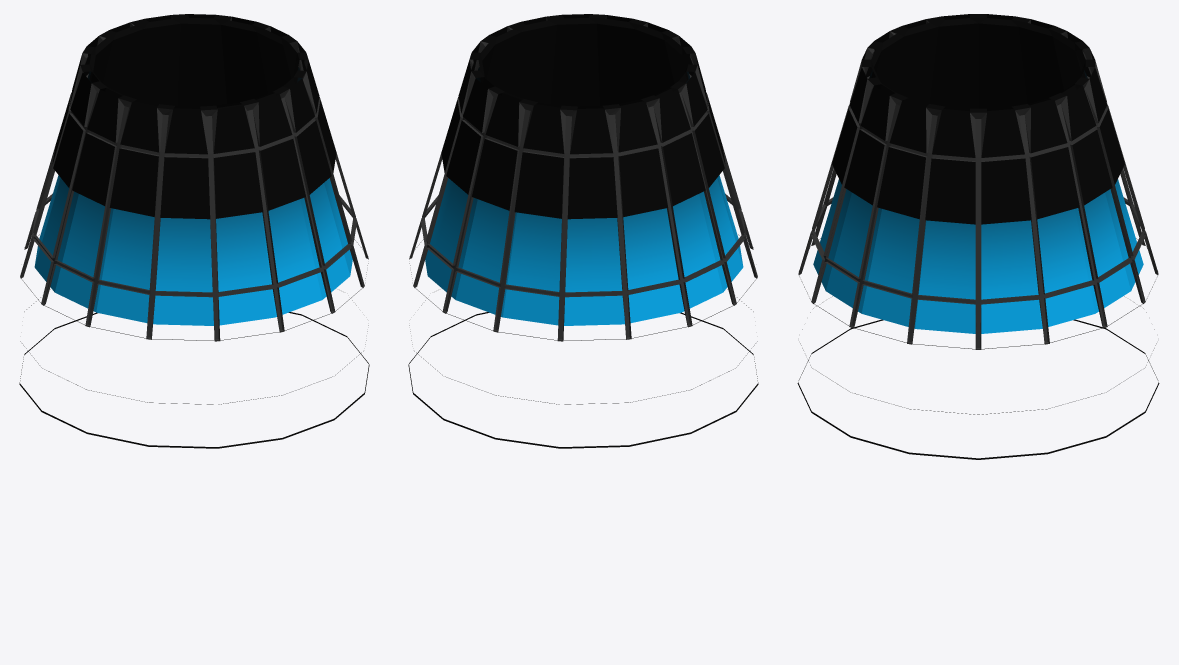
The model's file is PenSheQi_WeiPen_2X2X5_off.FBX.
3 renders of one model, left to right at view 1: azimuth 30°, elevation 25°; view 2: azimuth 150°, elevation 25°; view 3: azimuth 270°, elevation 25°, orthographic. The views are drawn at different scales.
Parts seen in each view (by area): view 1: Box002; view 2: Box002; view 3: Box002.
Boxes of the visible parts, left/top/right/bottom form: Box002: left=19, top=14, right=369, bottom=448; Box002: left=408, top=14, right=758, bottom=448; Box002: left=797, top=14, right=1159, bottom=459.
Size of the model in its own units: 3.1 by 4.92 by 3.1.
